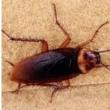cockroach: (10, 40, 101, 88)
